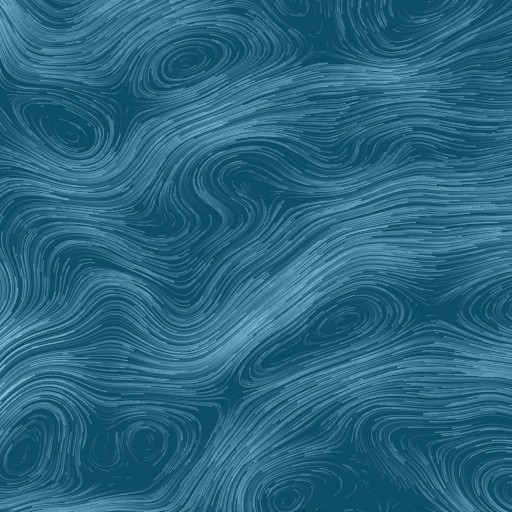eddy: (144, 27, 231, 99), (299, 291, 394, 355), (1, 407, 68, 487), (36, 105, 100, 161), (124, 419, 171, 465), (267, 484, 312, 510)
